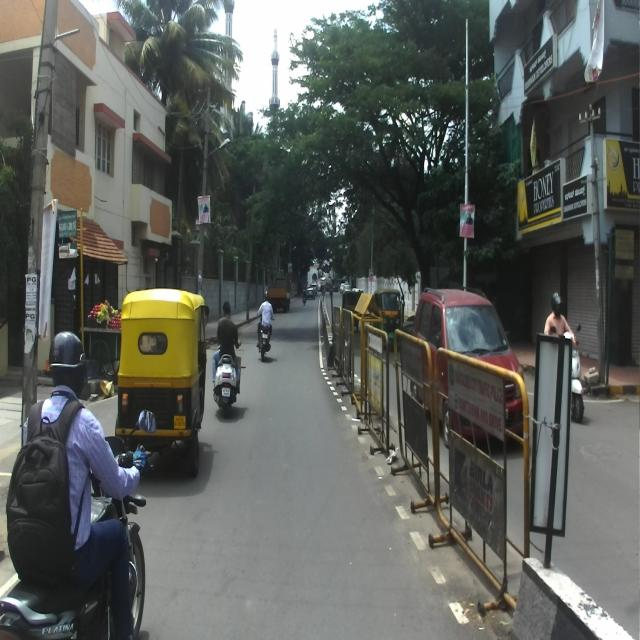Car_Maruti-Suzuki: (409, 284, 530, 466)
autorickshaw: (113, 288, 210, 480)
motorcycle_bajaj: (0, 406, 177, 639)
scooter: (548, 323, 584, 422), (211, 332, 243, 419)
